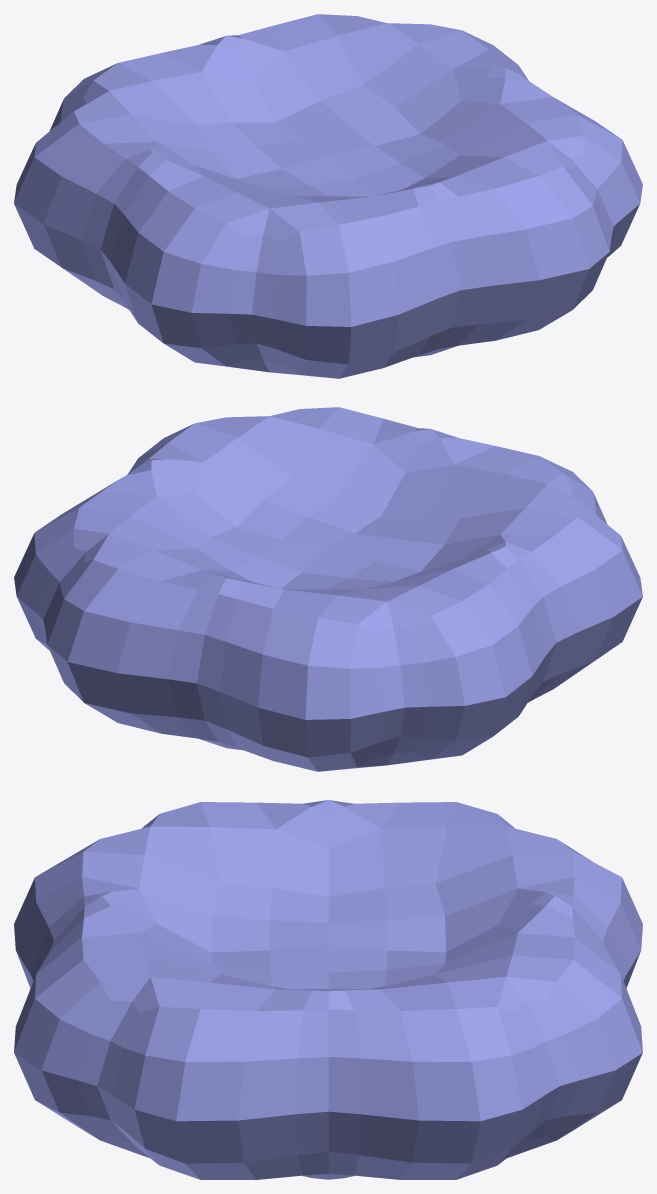
File: pillow.fbx
3 renders of one model, top to bottom at view 1: azimuth 30°, elevation 25°; view 2: azimuth 150°, elevation 25°; view 3: azimuth 270°, elevation 25°, orthographic. The views are drawn at different scales.
Visible parts, largest first — view 1: Cube.003; view 2: Cube.003; view 3: Cube.003.
Boxes of the visible parts, x1,y1,x2,y2 form: Cube.003: [14, 14, 642, 378]; Cube.003: [14, 407, 642, 771]; Cube.003: [14, 800, 642, 1179].
Bounding box in the file's own units: 267 × 91.65 × 267.
